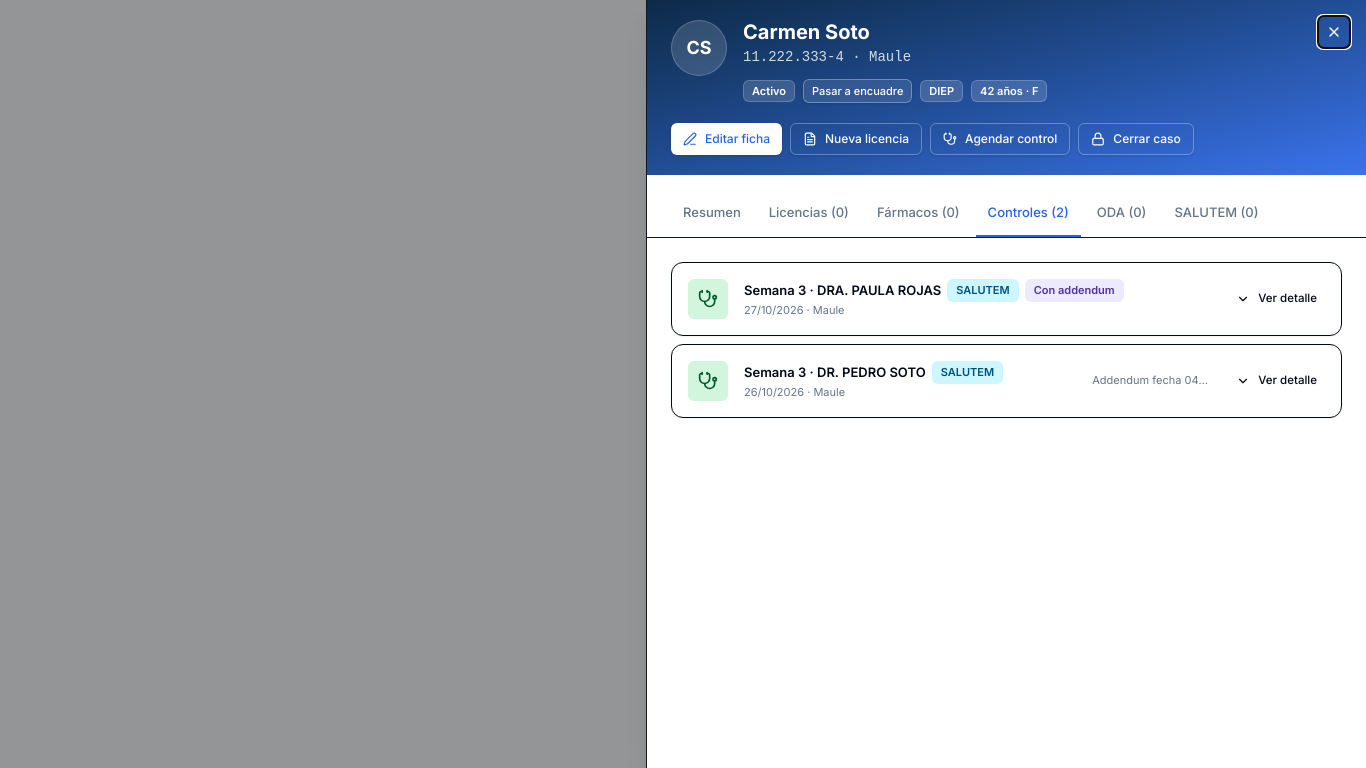
Scenario: PatientSheet — pestaña Controles (QA-008) › al ver el detalle muestra el addendum completo con fecha y profesional, y las demás notas aparte
What coordinates should you click on to do the following:
click the button with test id "btn-detalle-control-1"
I would click on:
 (1277, 298)
Its box is [1228,284,1325,312].
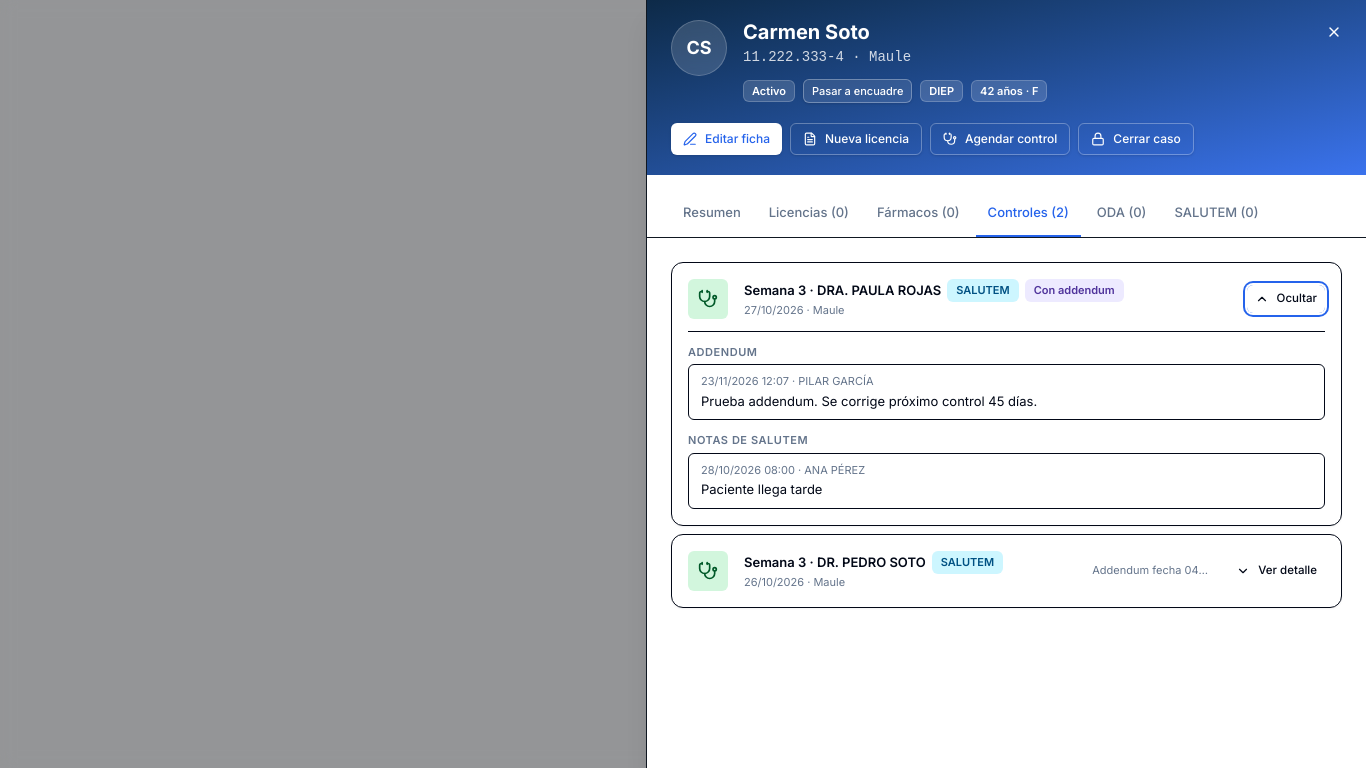
Expected: the heading "Addendum" is shown, [688,344,758,358]
Expected: the text "Prueba addendum. Se corrige próximo control 45 días." is shown, [701,392,1037,408]
Expected: the text "23/11/2026 12:07 · PILAR GARCÍA" is shown, [701,374,874,388]
